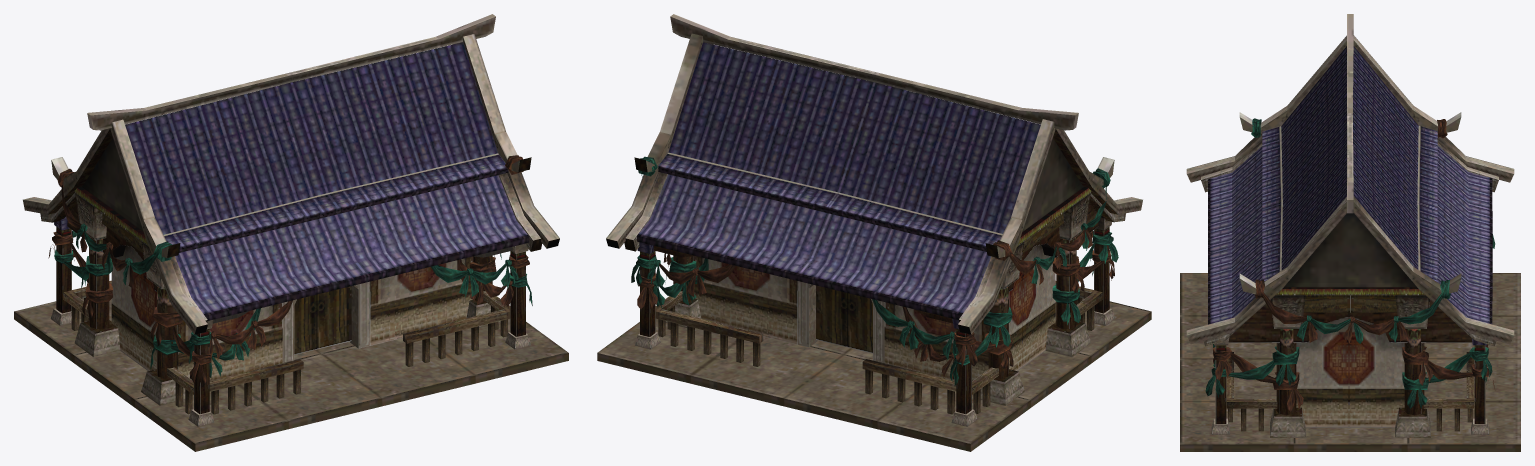
Rendered from rms-001.glb.
The picture shows the model from 3 angles, left to right: view 1: azimuth 30°, elevation 25°; view 2: azimuth 150°, elevation 25°; view 3: azimuth 270°, elevation 25°; orthographic projection. The views are drawn at different scales.
Visible parts, largest first — view 1: RMs-001_1, RMs-001_2; view 2: RMs-001_1, RMs-001_2; view 3: RMs-001_1, RMs-001_2.
Boxes of the visible parts, x1,y1,x2,y2 form: RMs-001_1: (14,14,568,451); RMs-001_2: (50,187,531,426); RMs-001_1: (597,14,1151,451); RMs-001_2: (635,187,1114,426); RMs-001_1: (1180,14,1520,451); RMs-001_2: (1211,287,1489,437).
Size of the model in its own units: 11.98 by 7.77 by 9.27.
Materials: 2 (2 with a texture image).
